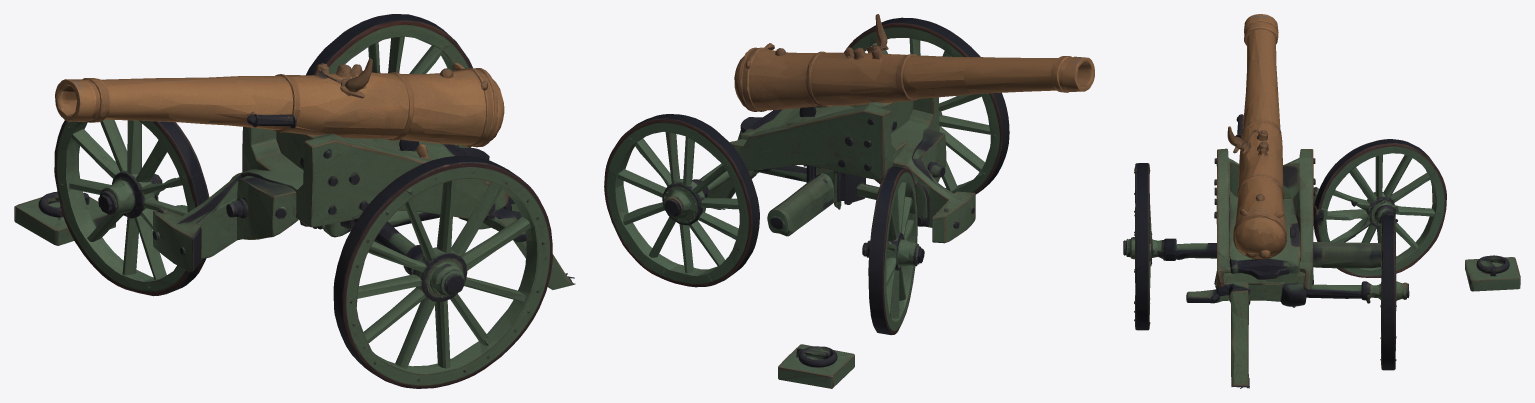
The model's file is licorne-russe.glb.
3 views of the same model, side by side, from view 1: azimuth 30°, elevation 25°; view 2: azimuth 150°, elevation 25°; view 3: azimuth 270°, elevation 25° (orthographic). The views are drawn at different scales.
Size of the model in its own units: 1.9 by 1.11 by 1.88.
1 material, 1 textured.
